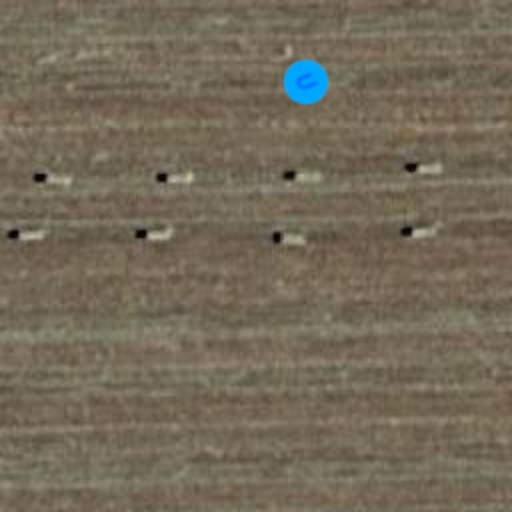circle: (274, 50, 338, 114)
